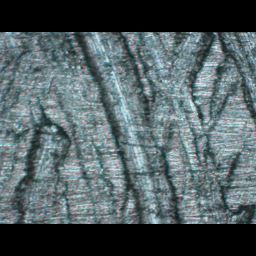d: (72, 33, 256, 224), (0, 101, 85, 210)
